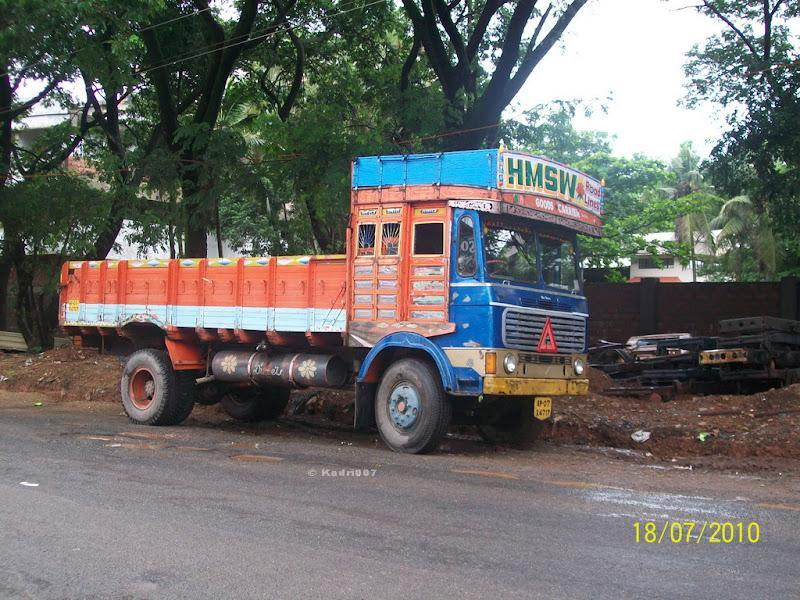truck: (54, 116, 667, 473)
